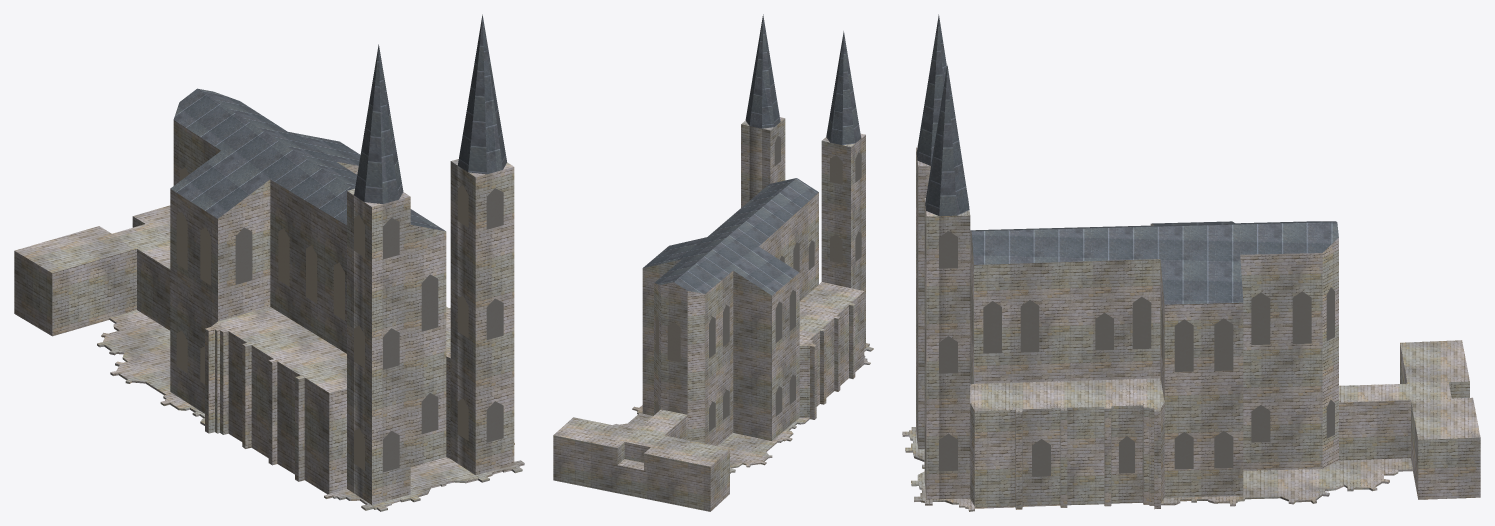
File: saint-jean-baptiste-de-belleville.glb
3 views of the same model, side by side, from view 1: azimuth 30°, elevation 25°; view 2: azimuth 150°, elevation 25°; view 3: azimuth 270°, elevation 25° (orthographic). The views are drawn at different scales.
Visible parts, largest first — view 1: stone, roof, window; view 2: stone, roof, window; view 3: stone, roof, window.
Part boxes in pixels (x1,y1,x2,y2): stone: (14, 120, 524, 511); roof: (170, 14, 506, 231); window: (176, 167, 503, 472); stone: (553, 117, 873, 511); roof: (643, 14, 861, 295); window: (655, 136, 861, 431); stone: (902, 147, 1480, 511); roof: (916, 14, 1338, 304); window: (916, 173, 1334, 476).
Bounding box in the file's own units: 31.97 × 57 × 69.88.
Materials: 3 (3 with a texture image).
